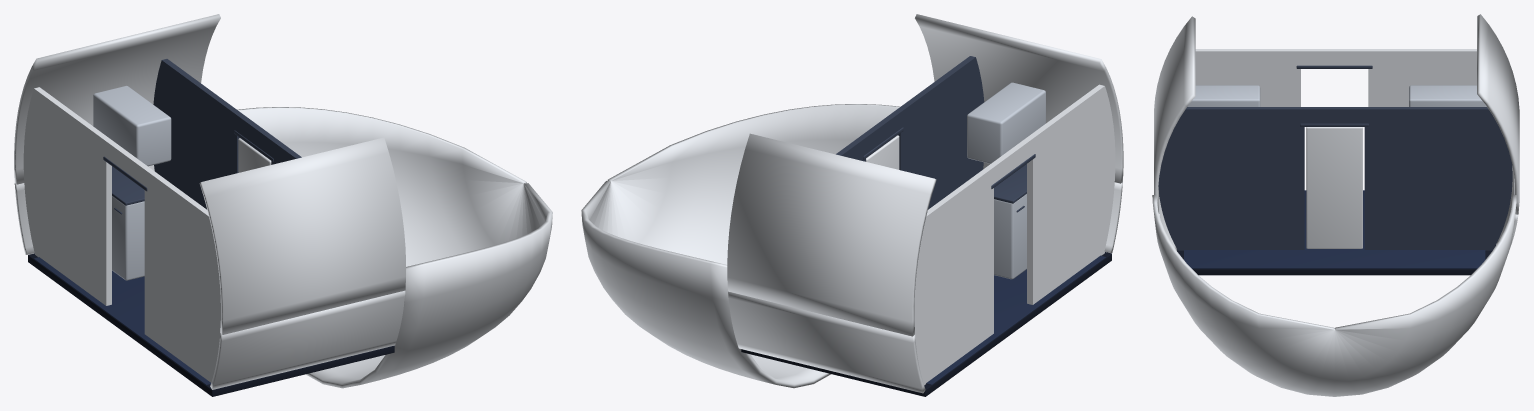
File: cabin_front.glb
3 views of the same model, side by side, from view 1: azimuth 30°, elevation 25°; view 2: azimuth 150°, elevation 25°; view 3: azimuth 270°, elevation 25° (orthographic). The views are drawn at different scales.
Parts seen in each view (by area): view 1: core, R_upper, L_upper, R_lower, L_lower; view 2: core, L_upper, L_lower, R_upper, R_lower; view 3: core, L_upper, R_upper.
Part boxes in pixels (x1,y1,x2,y2): core: (23, 59, 552, 396); R_upper: (199, 137, 405, 334); L_upper: (14, 14, 220, 184); R_lower: (210, 290, 405, 389); L_lower: (14, 165, 154, 254); core: (581, 56, 1115, 396); L_upper: (727, 133, 936, 336); L_lower: (728, 291, 925, 393); R_upper: (915, 14, 1123, 183); R_lower: (983, 162, 1122, 253); core: (1152, 49, 1516, 396); L_upper: (1477, 14, 1519, 214); R_upper: (1154, 16, 1195, 213).
Bounding box in the file's own units: 5.8 × 4.05 × 5.18.
